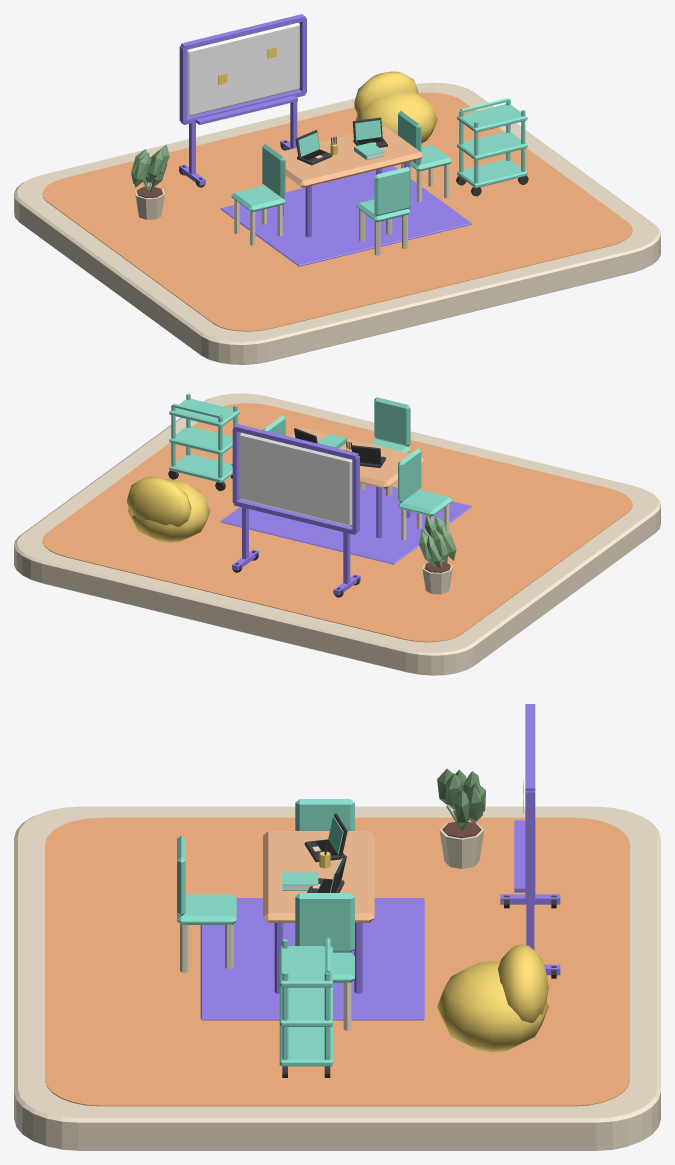
The picture shows the model from 3 angles, top to bottom: view 1: azimuth 30°, elevation 25°; view 2: azimuth 150°, elevation 25°; view 3: azimuth 270°, elevation 25°; orthographic projection. The views are drawn at different scales.
Visible parts, largest first — view 1: COM-02 Floor Surface, COM-01 Rounded Base Direct, Rug, Writing surface, Rounded table top, Beanbag shell, Pot, Backrest.002, Back bolster, Tray.002, Tray.001, Tray (+8 smaller); view 2: COM-02 Floor Surface, COM-01 Rounded Base Direct, Writing surface, Rug, Back bolster, Pot, Beanbag shell, Backrest.002, Rounded table top, Tray, Tray.001, Tray.002 (+7 smaller); view 3: COM-02 Floor Surface, COM-01 Rounded Base Direct, Rug, Rounded table top, Beanbag shell, Pot, Backrest.001, Back bolster, Tray.002, Tray, Tray.001, Backrest (+6 smaller).
Part boxes in pixels (<box>): COM-02 Floor Surface: <box>42,92,632,331</box>; COM-01 Rounded Base Direct: <box>14,82,660,364</box>; Rug: <box>220,166,471,266</box>; Writing surface: <box>187,23,299,116</box>; Rounded table top: <box>277,126,423,187</box>; Beanbag shell: <box>355,90,437,143</box>; Pot: <box>131,144,169,219</box>; Backrest.002: <box>374,167,410,216</box>; Back bolster: <box>354,71,418,114</box>; Tray.002: <box>457,104,527,132</box>; Tray.001: <box>457,132,527,160</box>; Tray: <box>457,159,527,188</box>; COM-02 Floor Surface: <box>42,403,632,642</box>; COM-01 Rounded Base Direct: <box>14,393,660,675</box>; Writing surface: <box>239,432,352,526</box>; Rug: <box>220,484,471,564</box>; Back bolster: <box>127,477,191,526</box>; Pot: <box>419,515,456,594</box>; Beanbag shell: <box>128,479,210,542</box>; Backrest.002: <box>374,397,410,446</box>; Rounded table top: <box>290,427,423,488</box>; Tray: <box>169,454,232,482</box>; Tray.001: <box>169,426,232,454</box>; Tray.002: <box>169,399,239,427</box>; COM-02 Floor Surface: <box>45,817,629,1106</box>; COM-01 Rounded Base Direct: <box>14,806,660,1150</box>; Rug: <box>200,898,424,1020</box>; Rounded table top: <box>263,831,374,922</box>; Beanbag shell: <box>437,961,548,1052</box>; Pot: <box>437,768,485,868</box>; Backrest.001: <box>295,893,354,952</box>; Back bolster: <box>498,944,548,1022</box>; Tray.002: <box>279,946,332,987</box>; Tray: <box>279,1026,332,1066</box>; Tray.001: <box>279,986,332,1026</box>; Backrest: <box>295,799,354,830</box>.
Bounding box in the file's own units: 6 × 2.04 × 5.2.
1 material, 1 textured.
